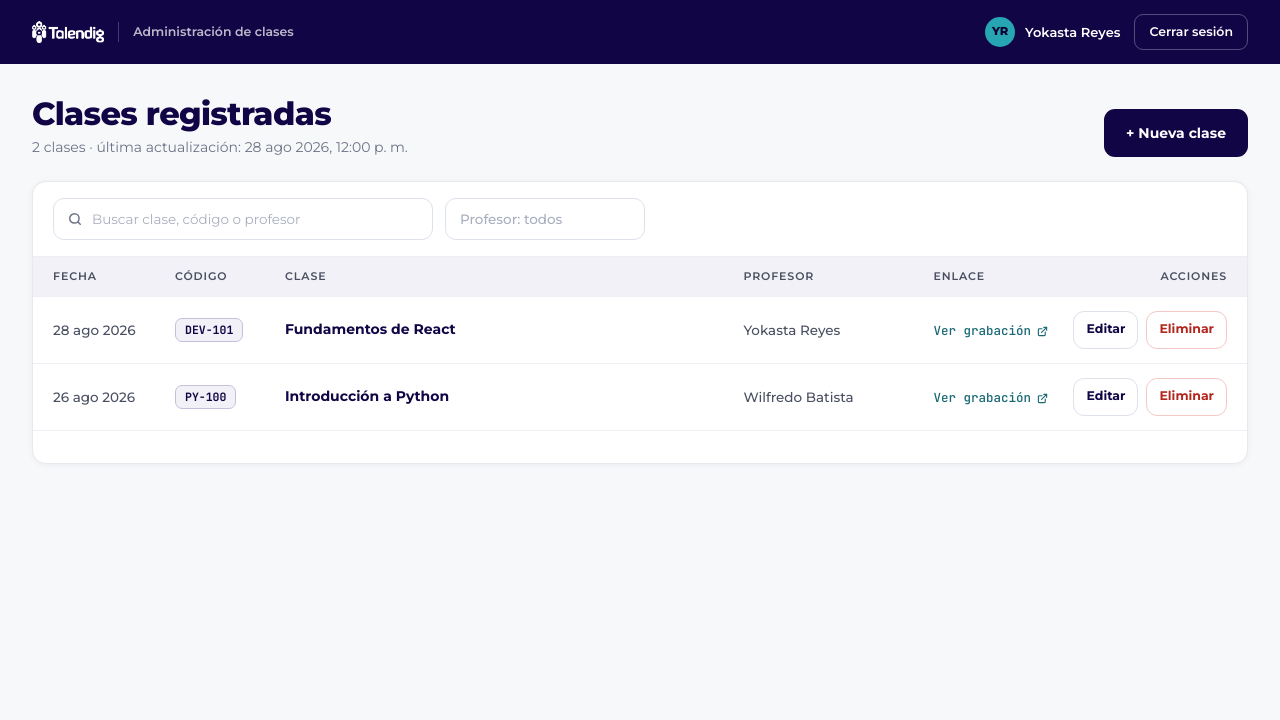
AdminDashboardPage › deletes the class and refreshes the list on confirmation
This screenshot has width=1280, height=720.
Expected: the text "2 clases · última actualización: 28 ago 2026, 12:00 p. m." is shown, x1=32 y1=137 x2=408 y2=157
Click the button "Eliminar" in the row of "DEV-101": point(1187, 330) x1=1146 y1=311 x2=1227 y2=349
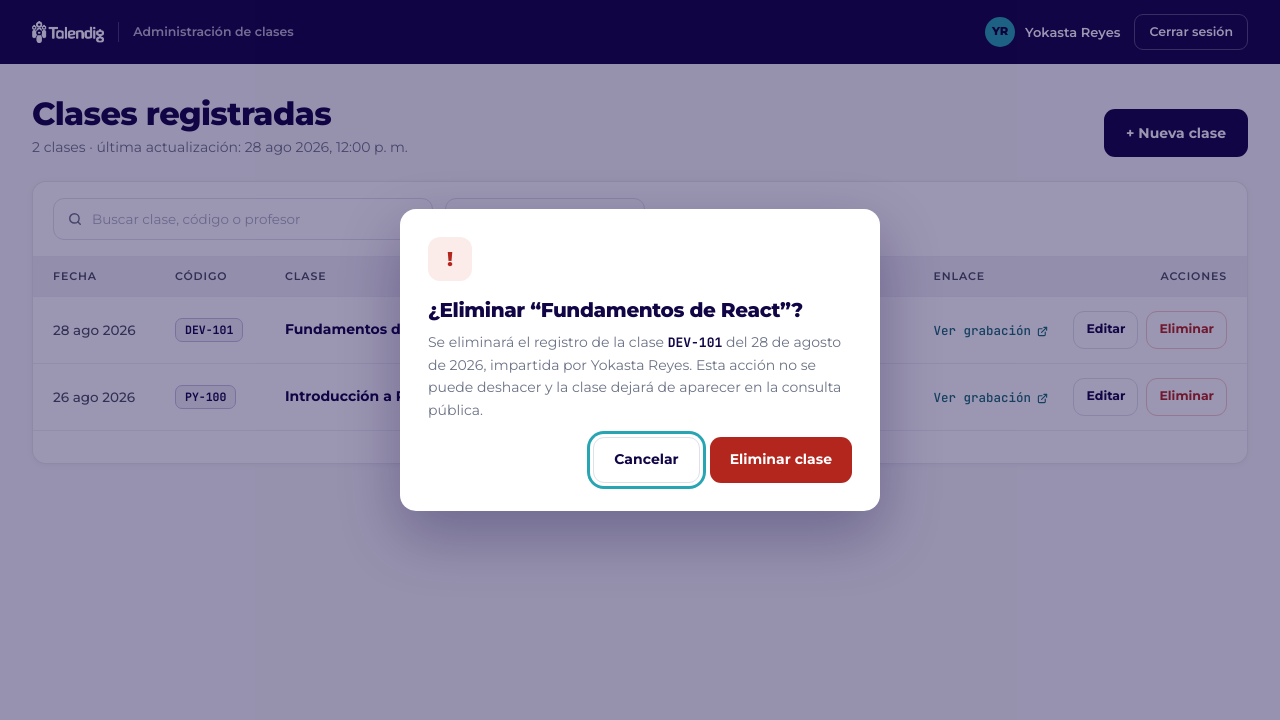
Click the button "Eliminar clase": point(781, 460) x1=710 y1=437 x2=852 y2=483
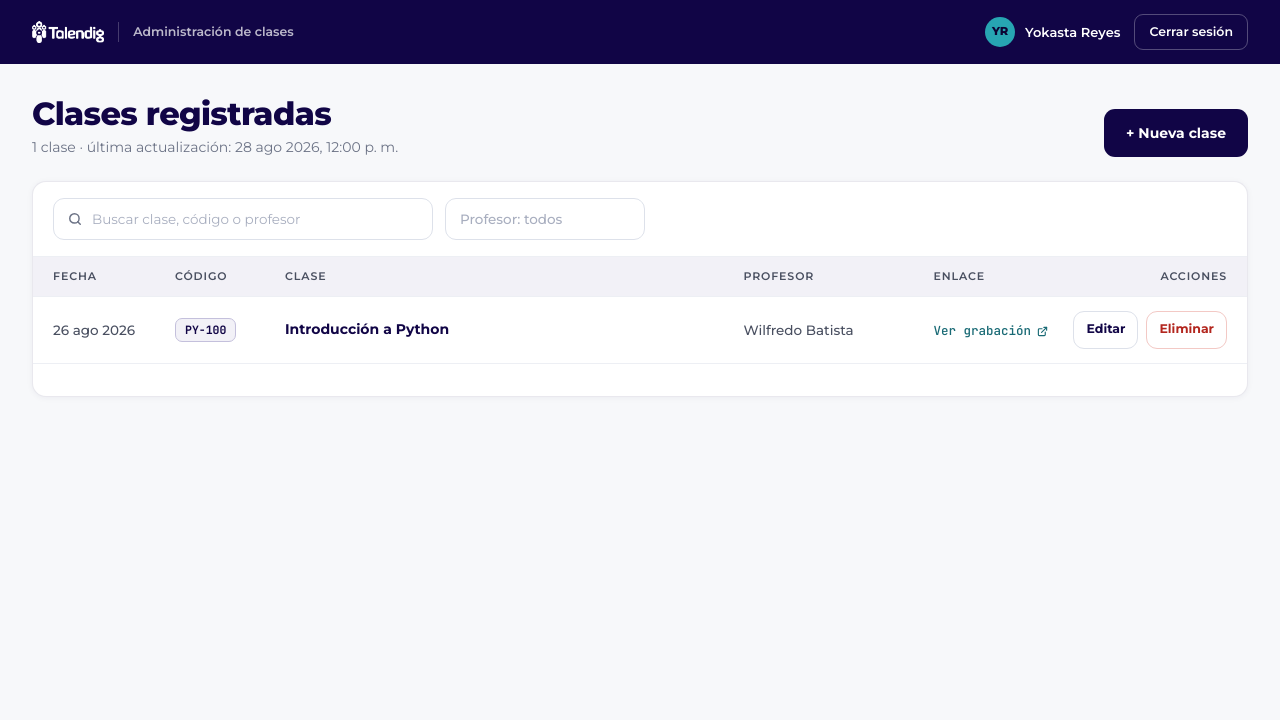
Result: the text "1 clase · última actualización: 28 ago 2026, 12:00 p. m." is shown at x1=32 y1=137 x2=398 y2=157
